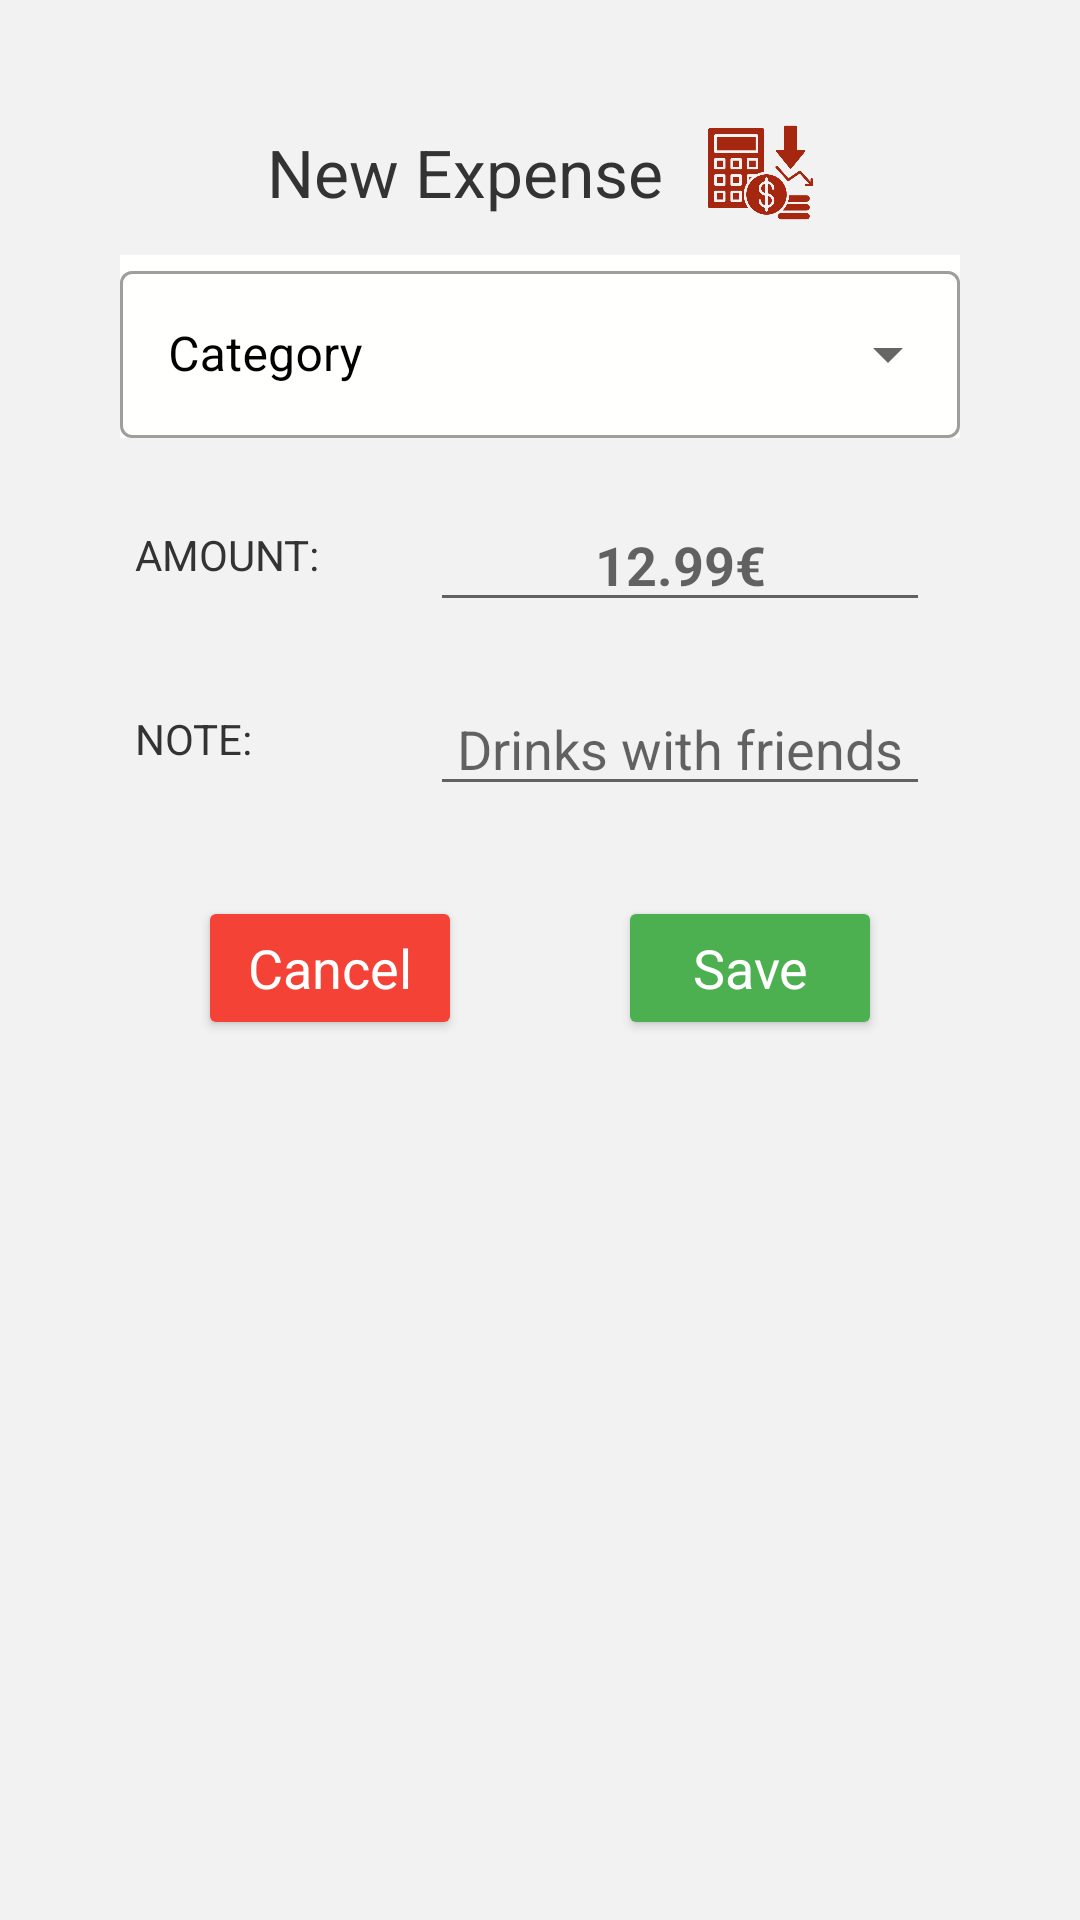

Point at icon controls on the screen. Image size 1080×1920, points as (x,y).
Income icon: (760,172)
